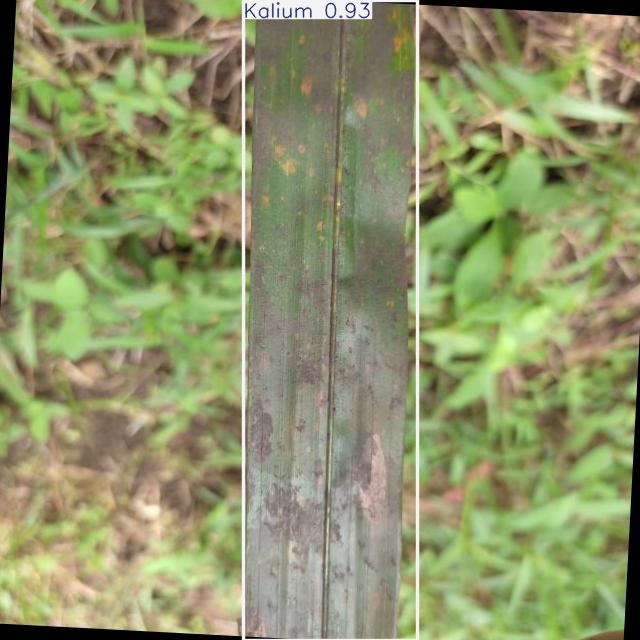Kalium: (244, 1, 417, 640)
